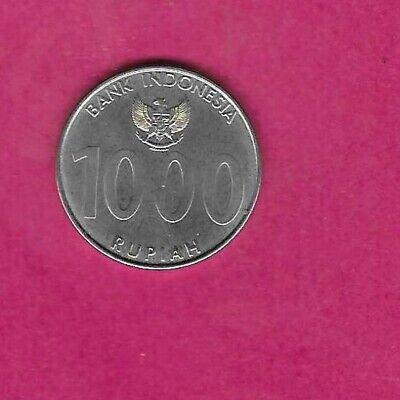coin_1000_e2010: (53, 57, 266, 274)
